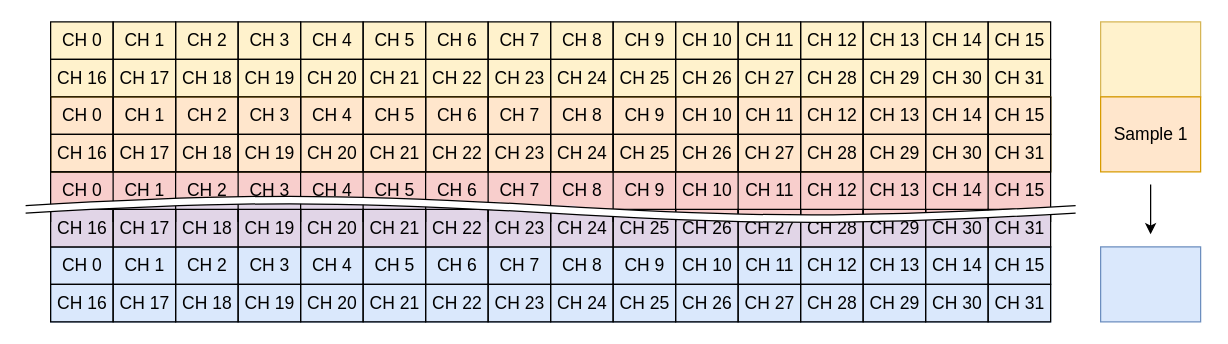
The diagram is 1228 pixels wide and 344 high, and some of its shapes have lost their labels. The centre of each missing label's shape, as x and y in pixels:
Sample 0: pixel 1150 59
Sample 127: pixel 1150 284
